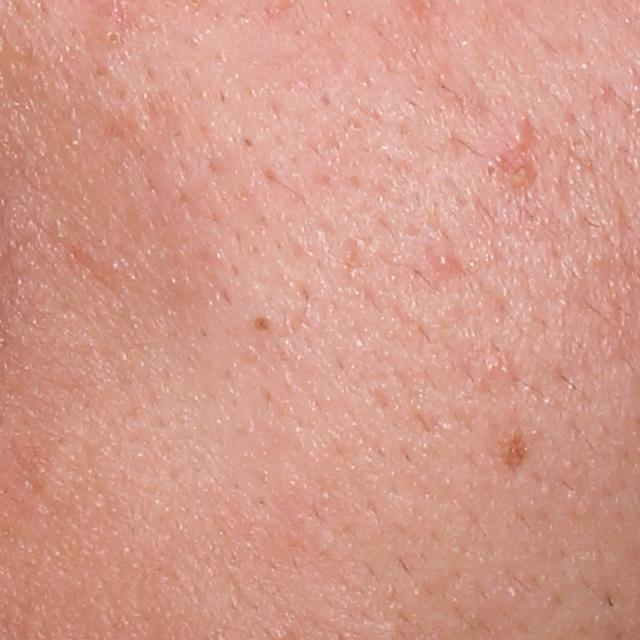comedo: (430, 245, 458, 279), (99, 25, 126, 51), (250, 314, 272, 334)
